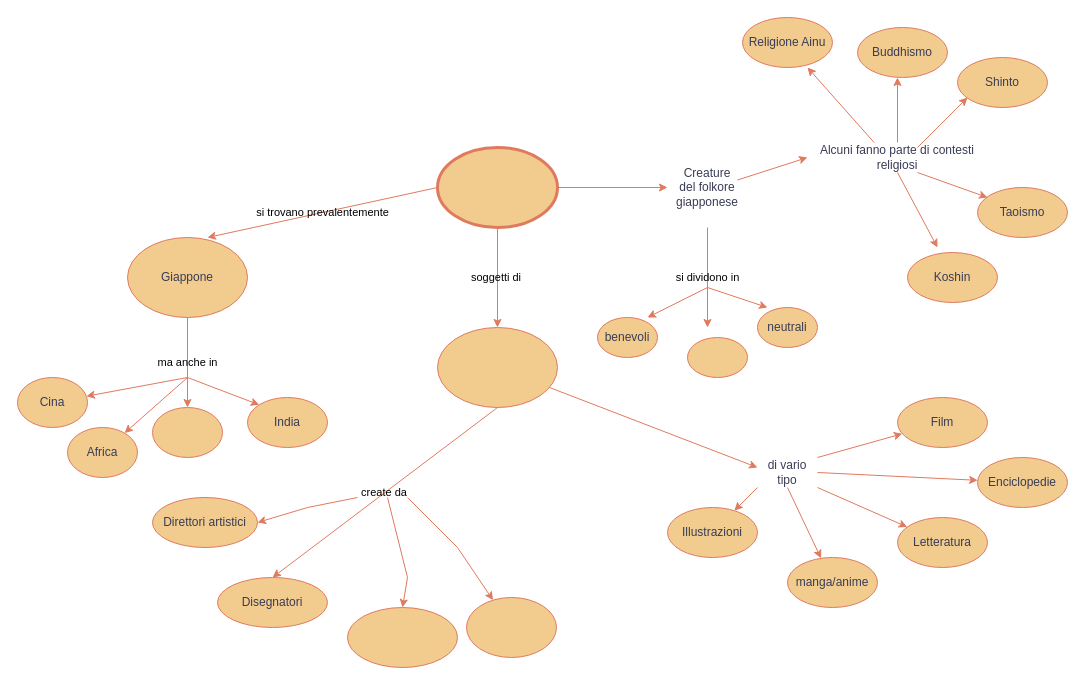
This 1085x685 diagram has some shape labels left out. Each missing label, with the centre of its shape:
Corea: pixel 187 432
Illustratori: pixel 511 627
malevoli: pixel 717 357
Rappresentazioni artistiche: pixel 497 367
Scrittori: pixel 402 637
Yokai: pixel 497 187
